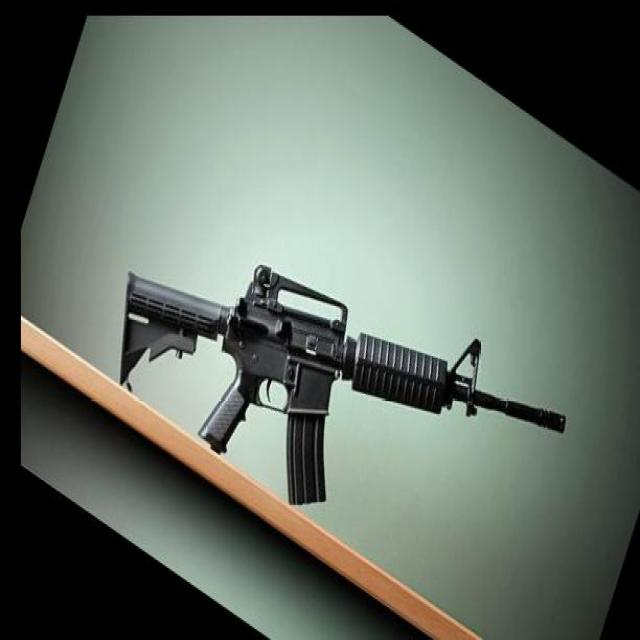heavy-weapon: (119, 262, 566, 508)
